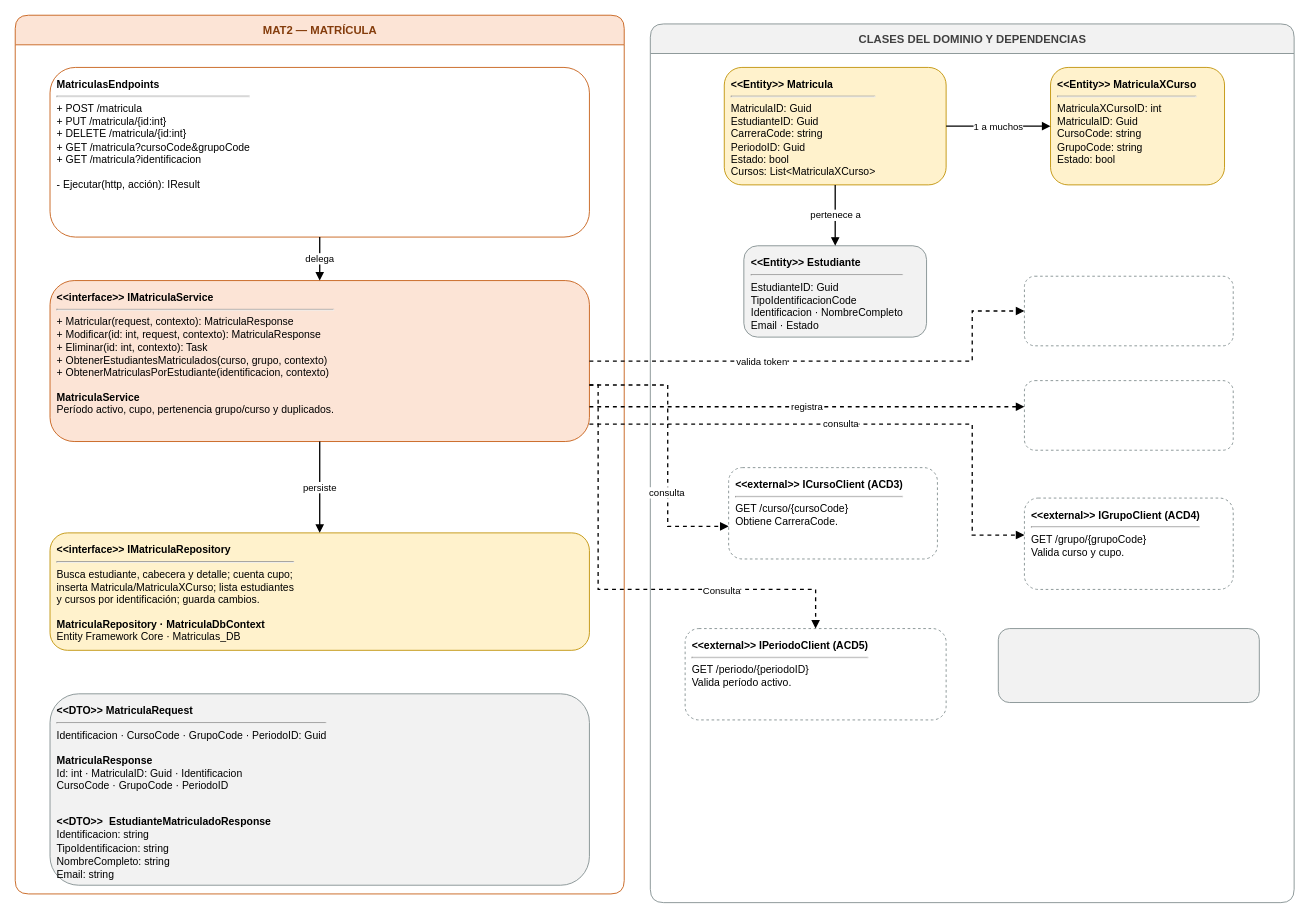
The diagram is 1309 pixels wide and 918 high, and some of its shapes have lost their labels. Each missing label, with the centre of its shape:
"<<external>> IAuthClient (USR5) POST /validate" belongs at pixel 1128 310.
"<<external>> IBitacoraClient (GEN1) POST /bitacora" belongs at pixel 1128 415.
"ContextoUsuario UsuarioId: Guid · Token: string" belongs at pixel 1128 665.
